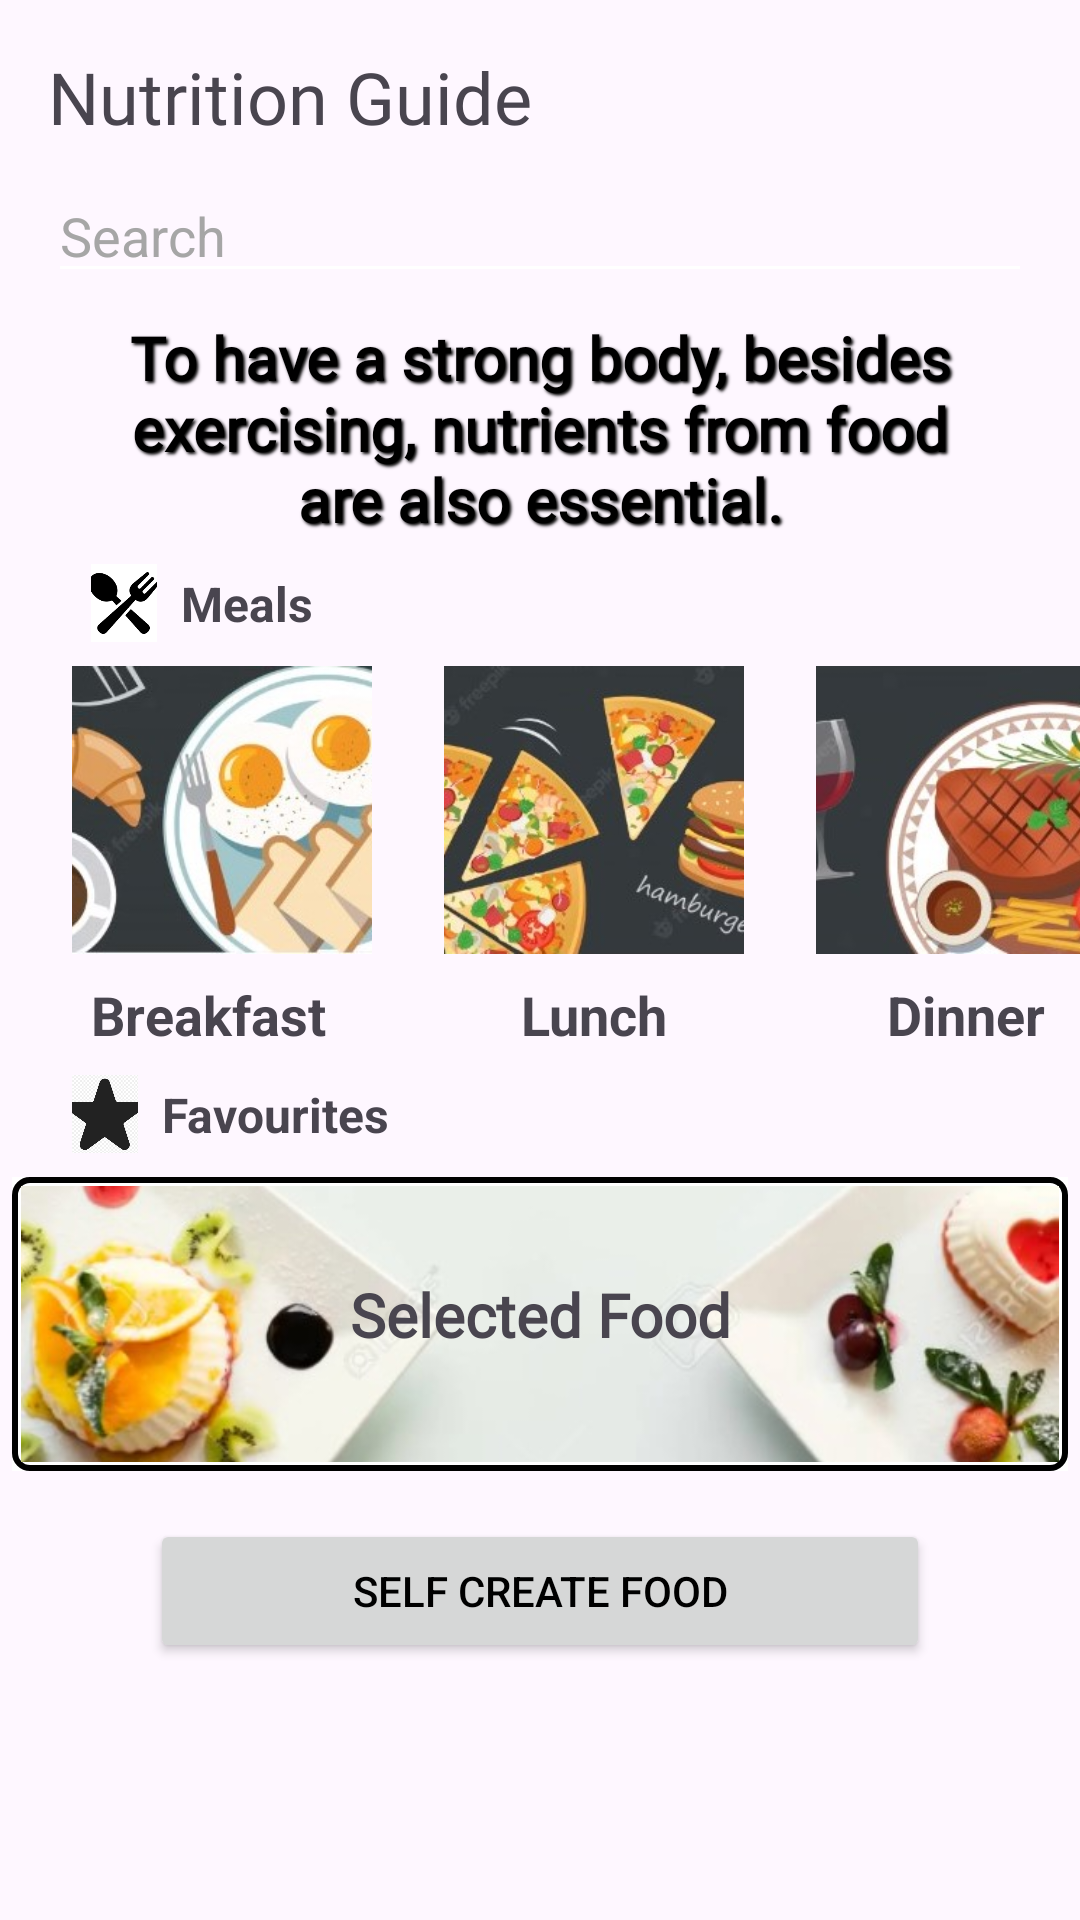

Named icons in this screenshot (1080px×1920px) and their centers, [x,y]:
star: [105,1114]
